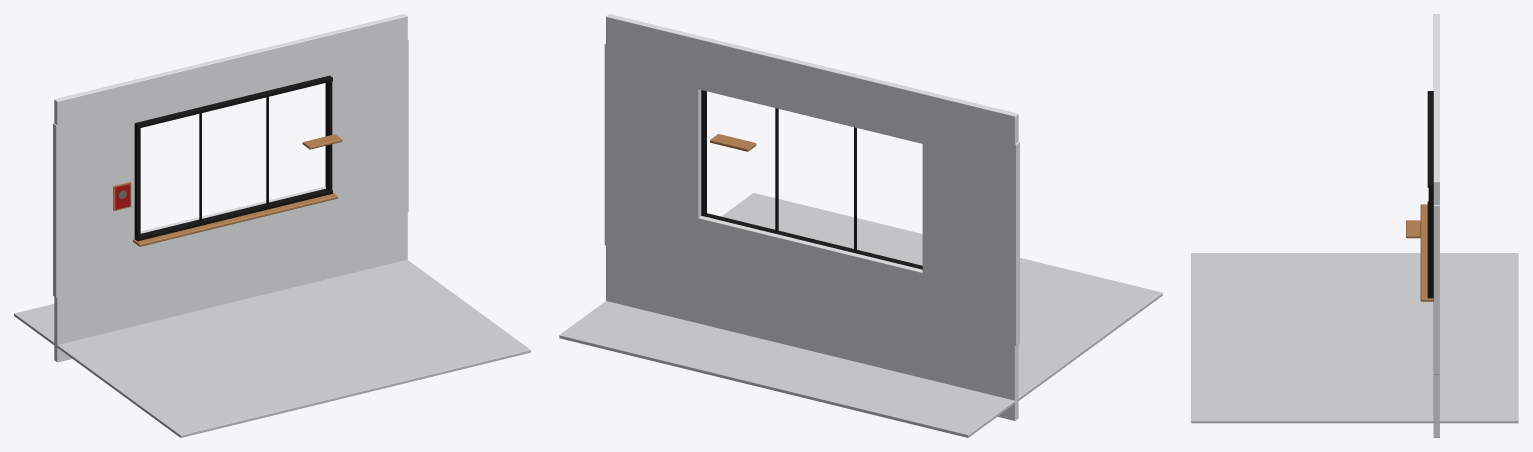
File: room.glb
3 renders of one model, left to right at view 1: azimuth 30°, elevation 25°; view 2: azimuth 150°, elevation 25°; view 3: azimuth 270°, elevation 25°, orthographic. The views are drawn at different scales.
Parts seen in each view (by area): view 1: Architectural room and panoramic window, OakWindowSill; view 2: Architectural room and panoramic window; view 3: Architectural room and panoramic window, OakWindowSill.
Boxes of the visible parts, x1,y1,x2,y2 form: Architectural room and panoramic window: [14, 14, 530, 437]; OakWindowSill: [133, 192, 337, 246]; Architectural room and panoramic window: [559, 14, 1162, 437]; Architectural room and panoramic window: [1191, 14, 1518, 437]; OakWindowSill: [1420, 204, 1433, 301].
Bounding box in the file's own units: 17.1 × 12.1 × 14.
